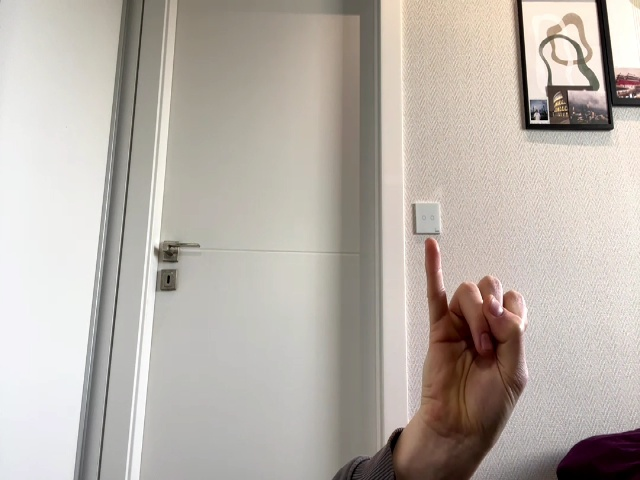I: (425, 237, 529, 414)
